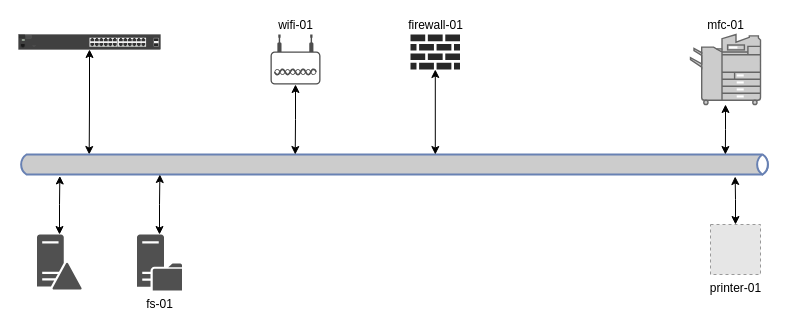
This 788x328 diagram has some shape labels left out. Grey dashed boxes stand in for pictures. Here are the shapes that lost their labels. From the top down, the box of each, then its label:
(18, 34, 160, 50): switch-01
(36, 234, 82, 289): dc-01
